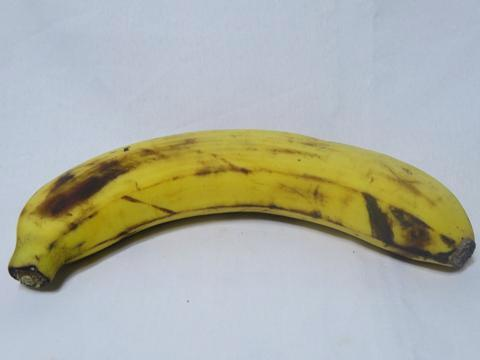overripe: (3, 115, 479, 301)
